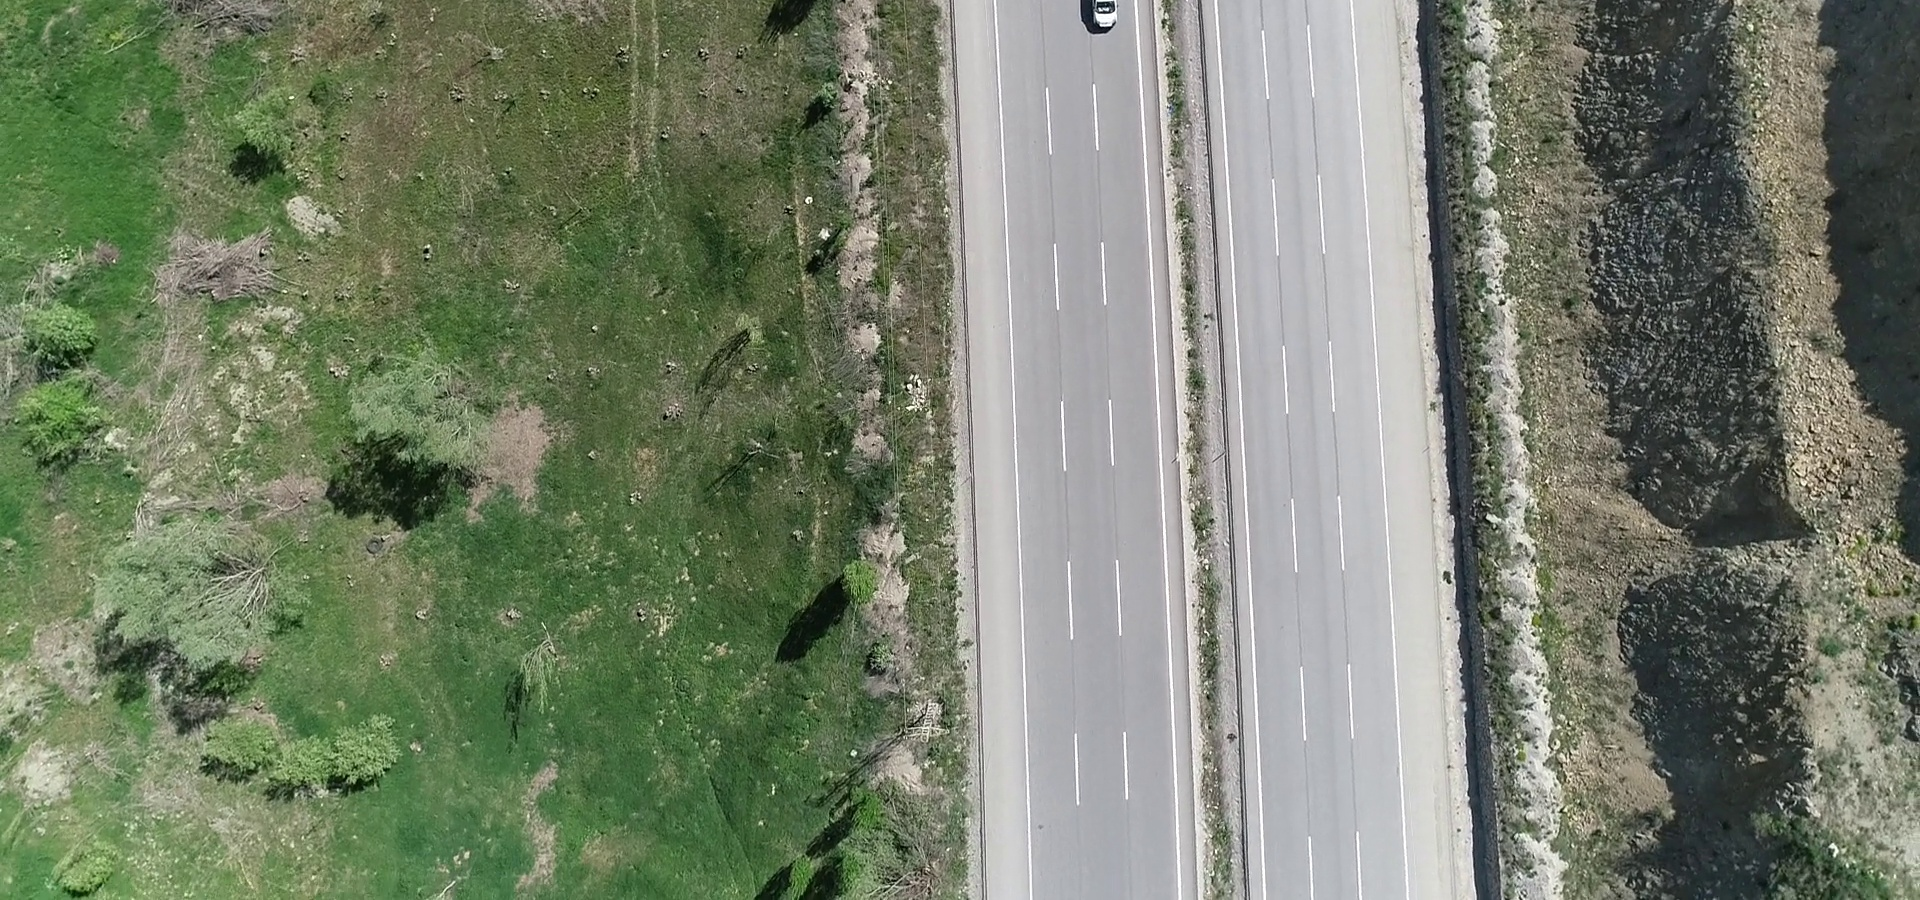arac: (1080, 1, 1120, 36)
